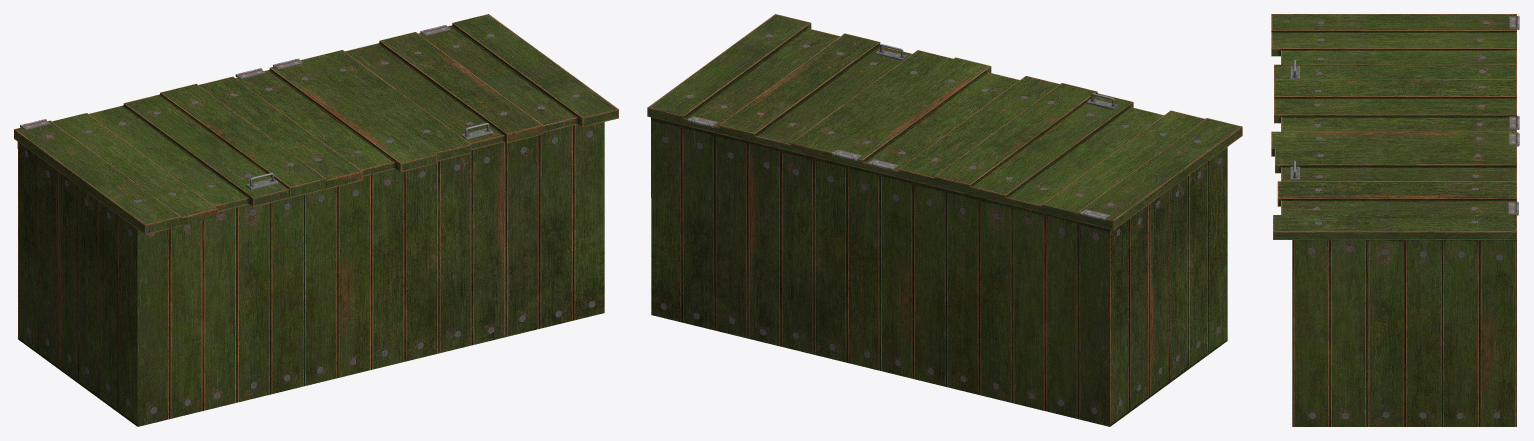
The model's file is Garbage_Can_03.fbx.
The picture shows the model from 3 angles, left to right: view 1: azimuth 30°, elevation 25°; view 2: azimuth 150°, elevation 25°; view 3: azimuth 270°, elevation 25°; orthographic projection. The views are drawn at different scales.
Visible parts, largest first — view 1: Garbage_Can_03_LOD0; view 2: Garbage_Can_03_LOD0; view 3: Garbage_Can_03_LOD0.
Boxes of the visible parts, left/top/right/bottom form: Garbage_Can_03_LOD0: left=14, top=14, right=618, bottom=426; Garbage_Can_03_LOD0: left=647, top=14, right=1242, bottom=426; Garbage_Can_03_LOD0: left=1271, top=14, right=1519, bottom=426.
Size of what is drawn, in the model's own units: 209 by 92.34 by 101.
